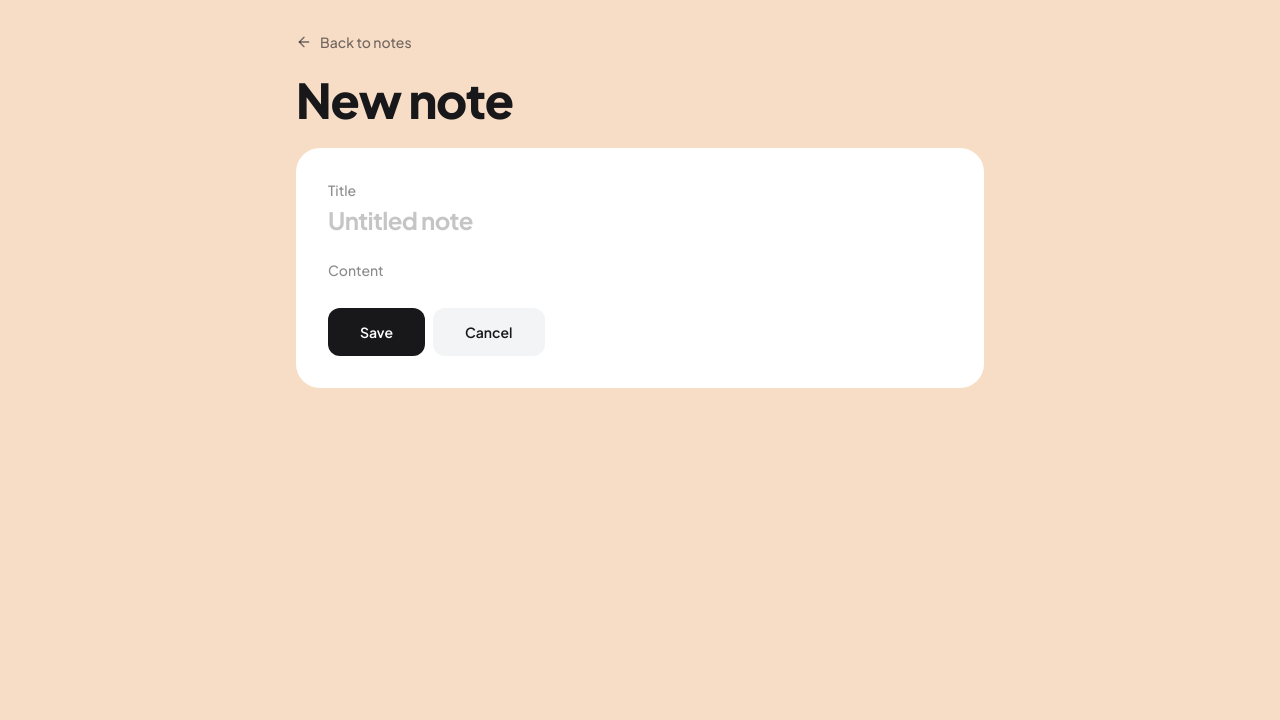
Test: leaving with unsaved changes asks before discarding
This screenshot has width=1280, height=720.
In the field labelled "Title": (640,220) 328,204 -> 952,236, type "Half written"
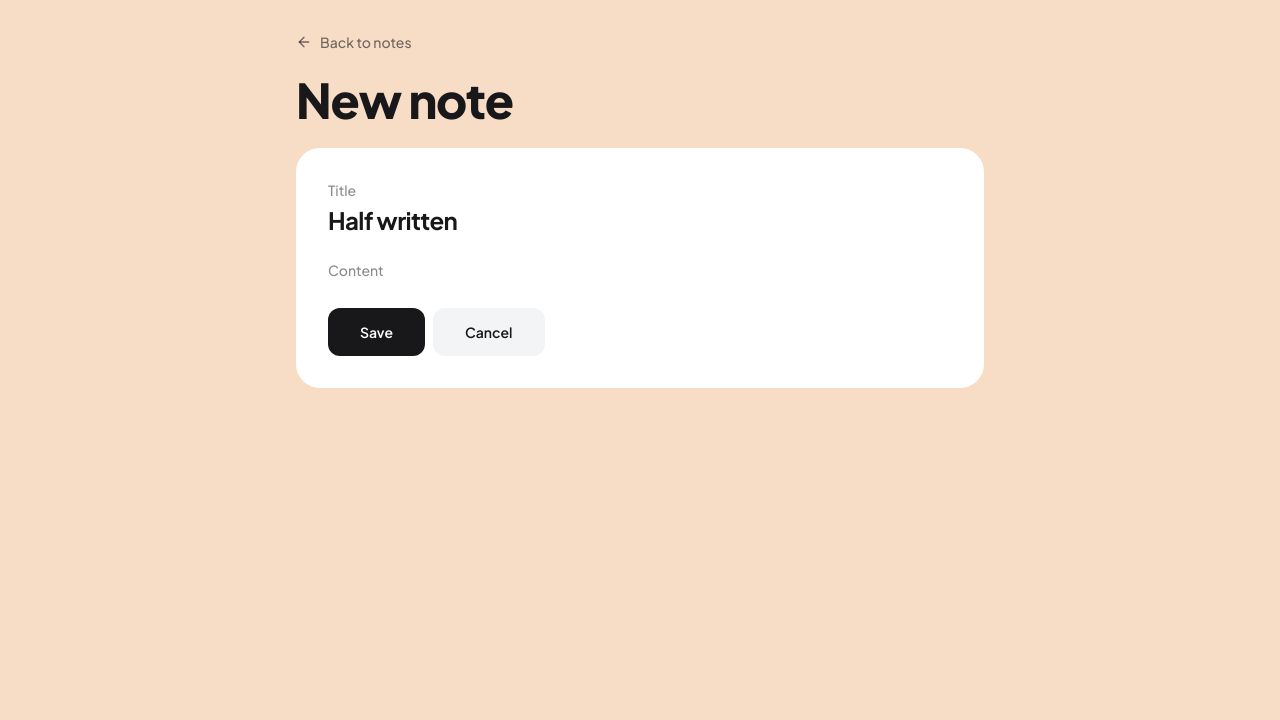
Click the button "Back to notes": (354,42) 296,32 -> 412,52
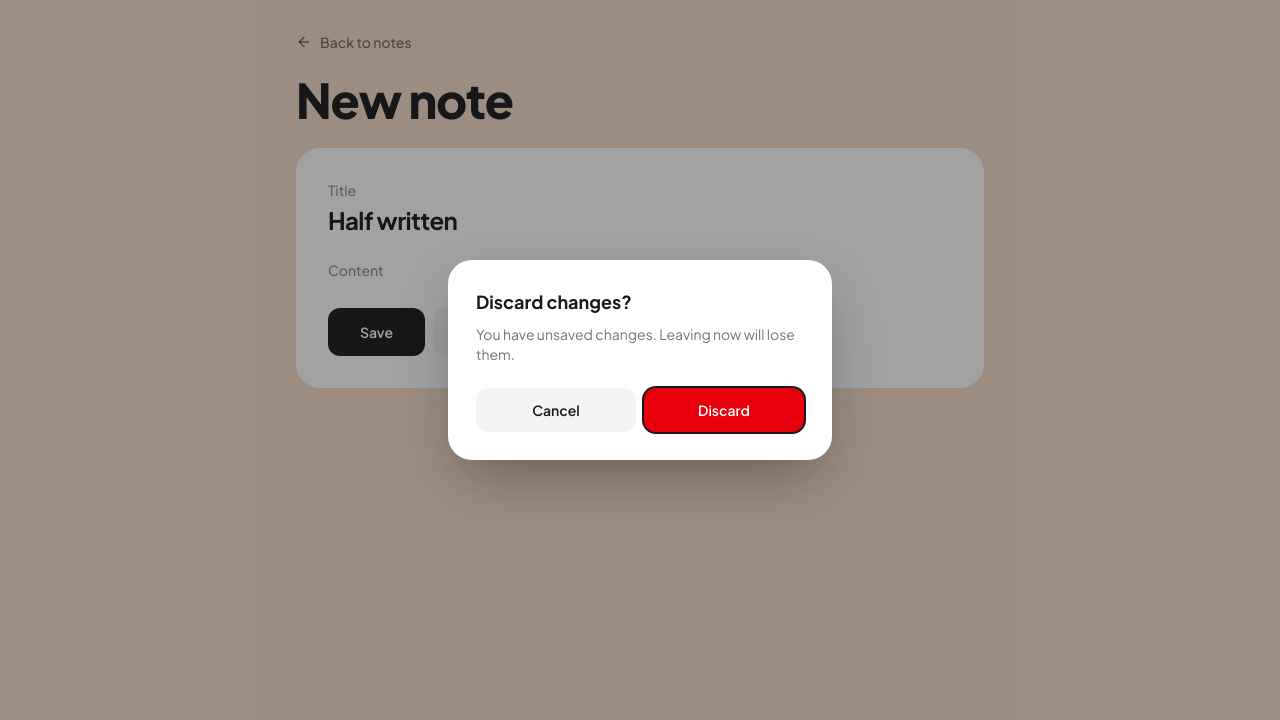
Expected: the heading "Discard changes?" is shown, 476,290 -> 632,313
